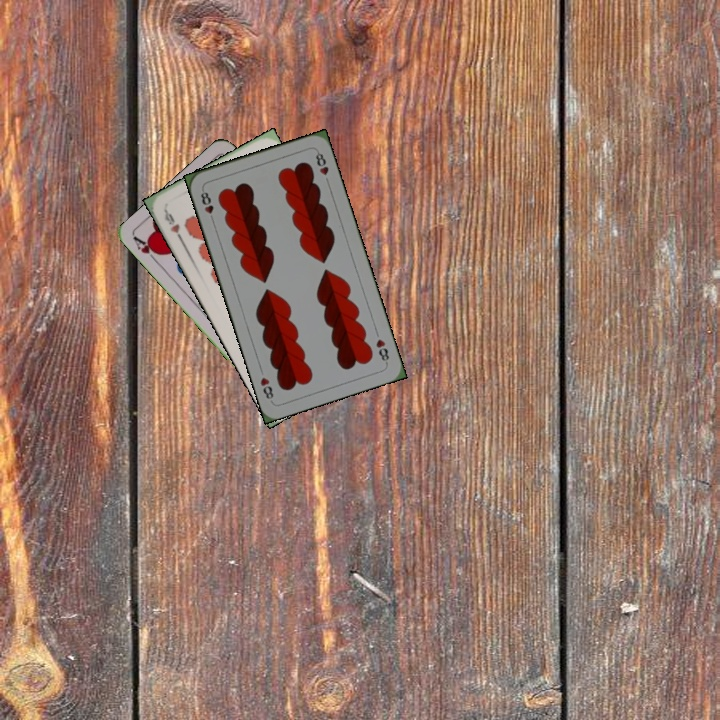H8: (197, 185, 217, 225), (372, 335, 392, 366)
H9: (160, 205, 185, 243)
HA: (130, 232, 163, 266)
